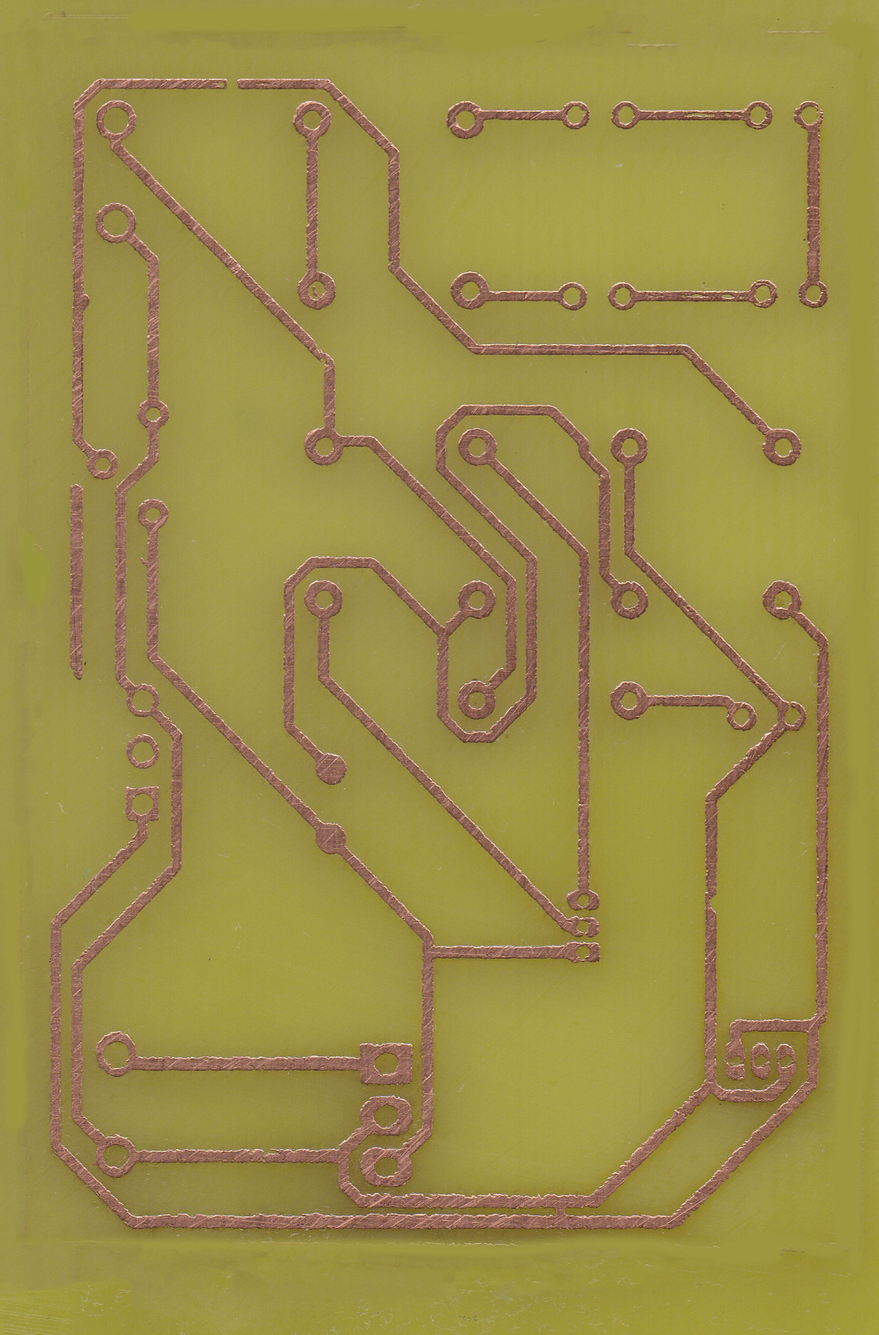missing_hole: (794, 100, 827, 132)
mouse_bite: (704, 887, 722, 922)
open_circuit: (217, 75, 249, 94)
short: (544, 1188, 576, 1234)
spur: (70, 286, 93, 315)
spurious_copper: (66, 480, 89, 684)
